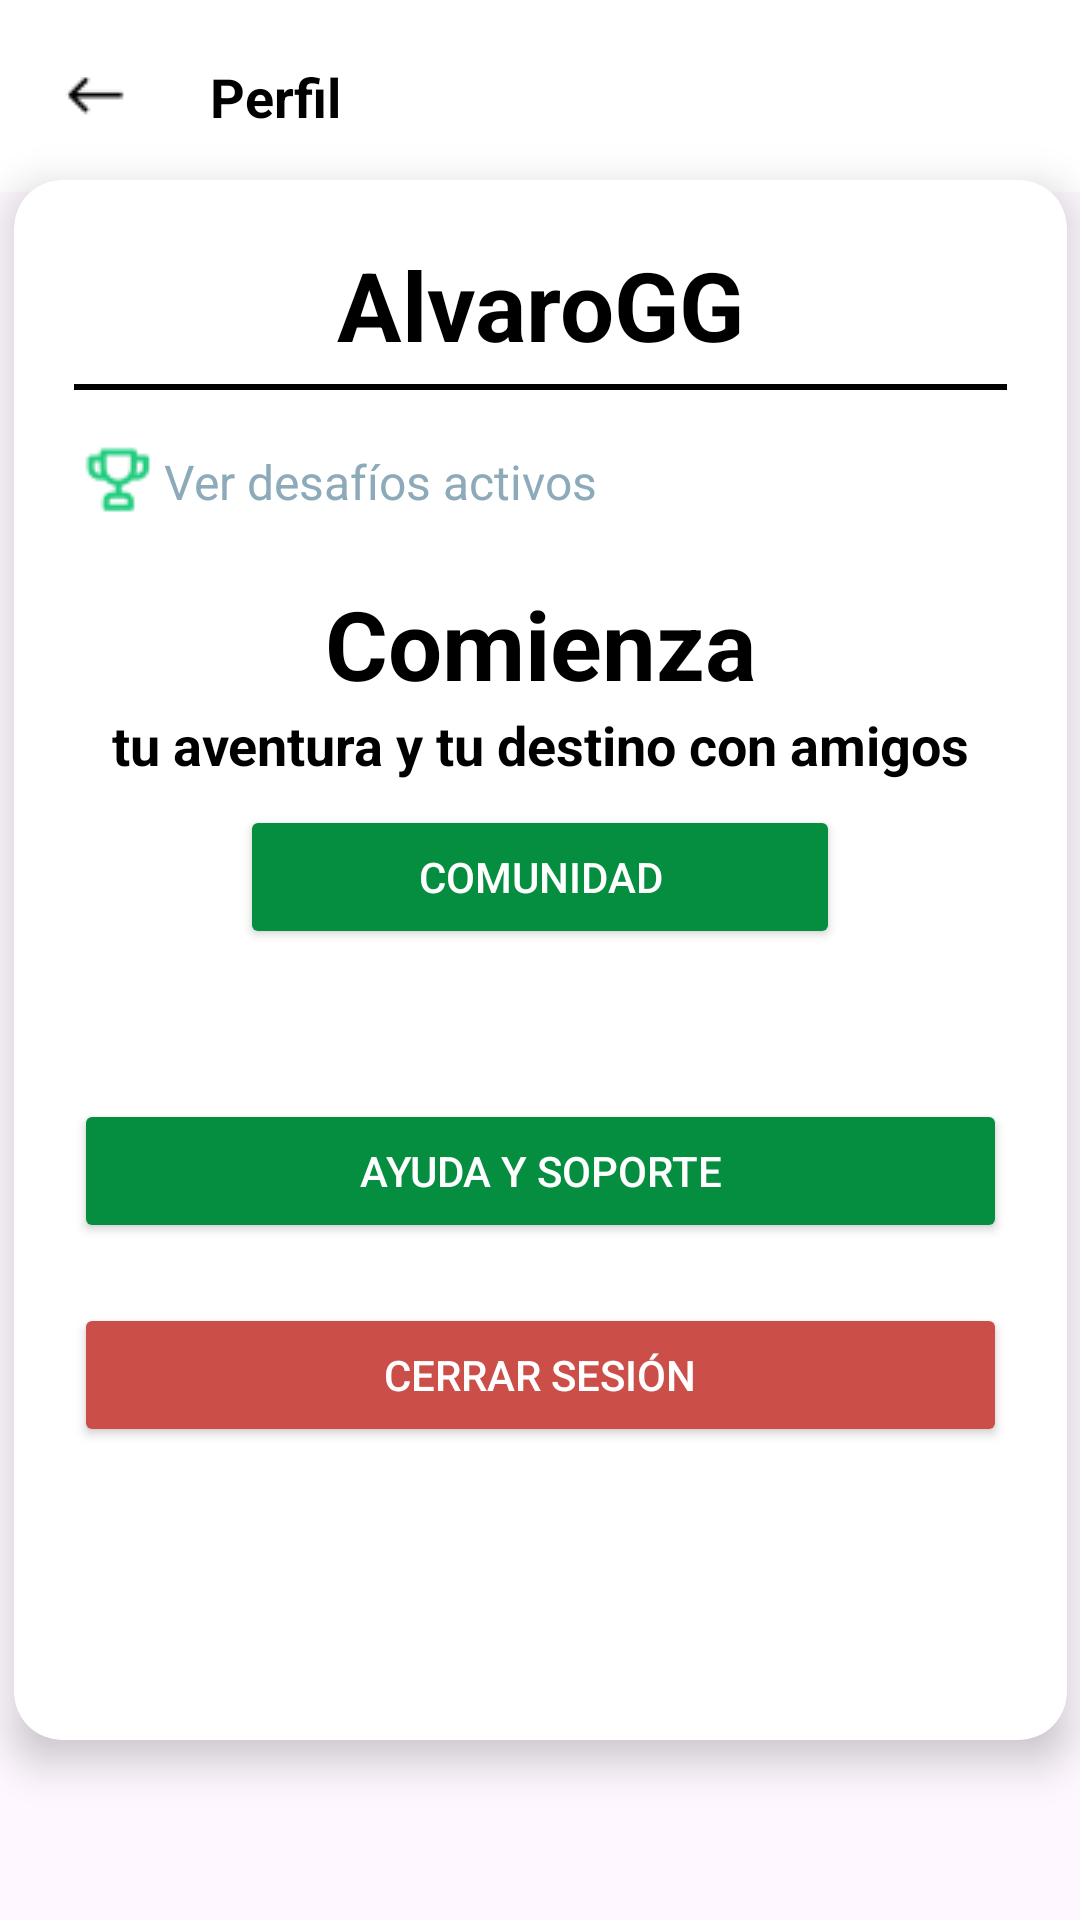

Where icons sit on this 1080 × 1920 app screen, as (x1, y1, x2, y2):
flecha: (68, 77, 124, 115)
trophy: (85, 447, 150, 512)
